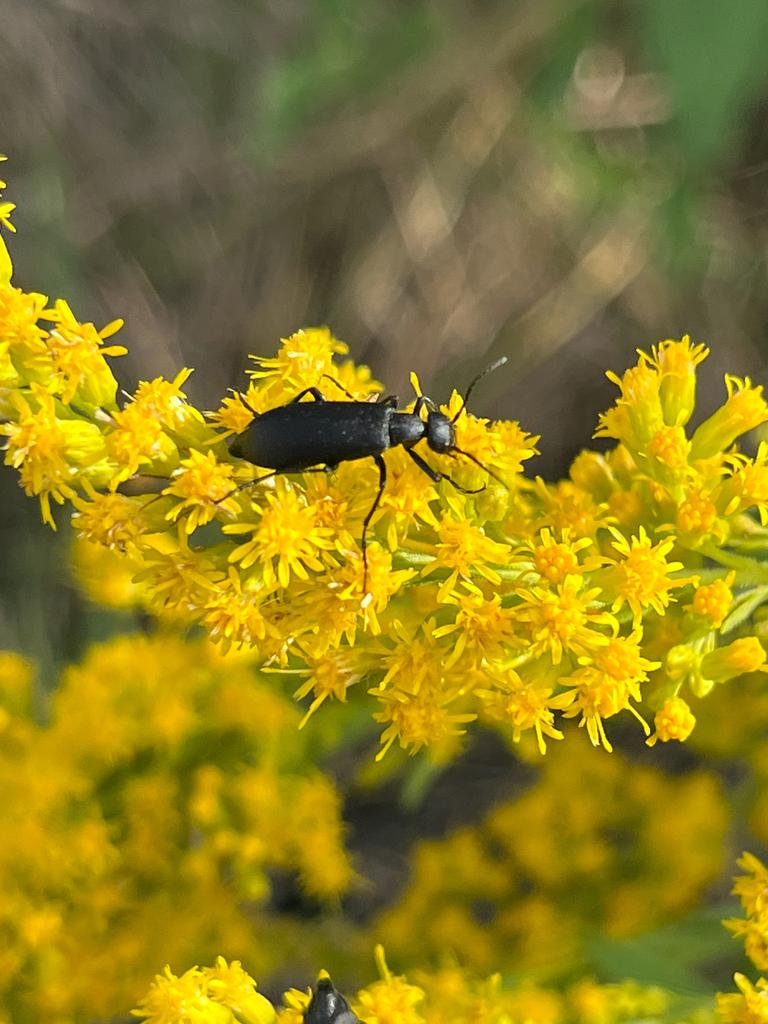blister_beetle: (165, 319, 553, 617)
